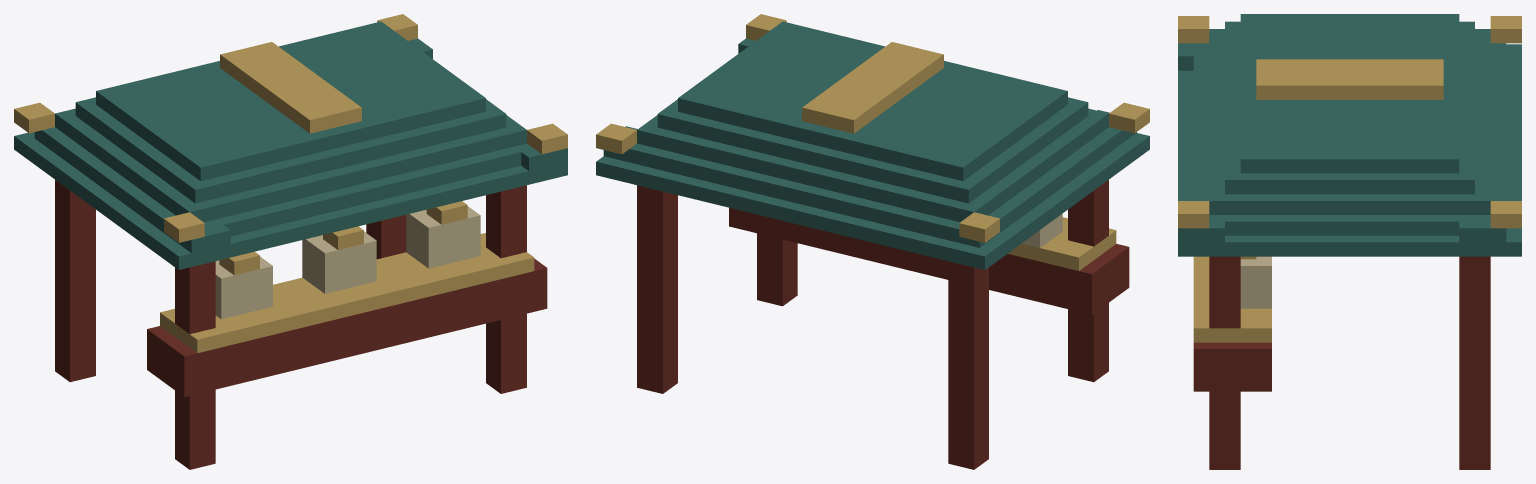
The model's file is market.glb.
The picture shows the model from 3 angles, left to right: view 1: azimuth 30°, elevation 25°; view 2: azimuth 150°, elevation 25°; view 3: azimuth 270°, elevation 25°; orthographic projection. The views are drawn at different scales.
Parts seen in each view (by area): view 1: Shell; view 2: Shell; view 3: Shell.
Boxes of the visible parts, x1,y1,x2,y2 form: Shell: [14, 14, 567, 469]; Shell: [596, 14, 1149, 469]; Shell: [1178, 14, 1521, 469].
Size of the model in its own units: 3.75 by 2.75 by 2.75.
